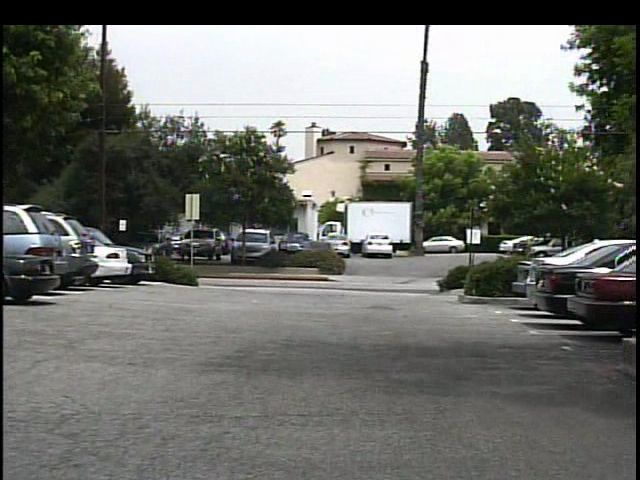person: (160, 235, 182, 280)
